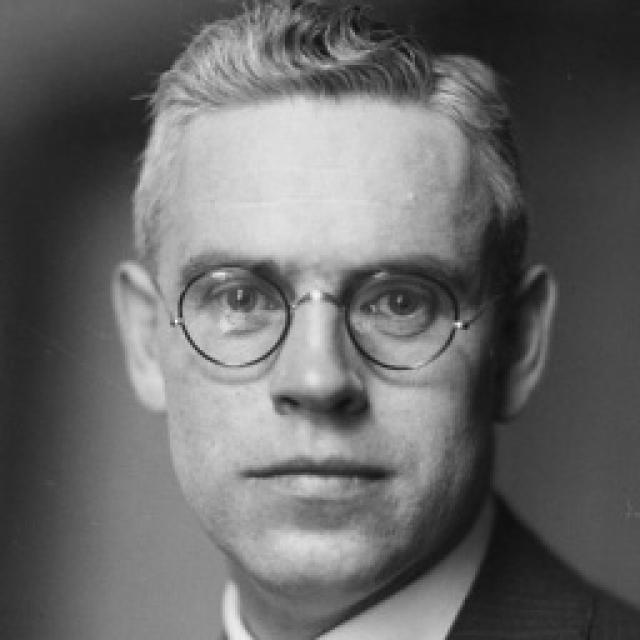glasses: (150, 250, 511, 375)
